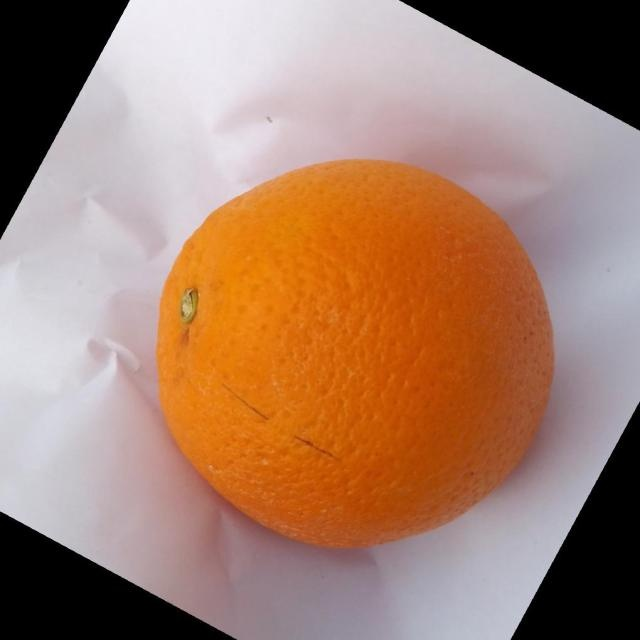agrume: (154, 156, 556, 550)
